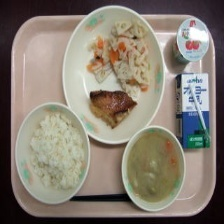rice: (19, 111, 88, 193)
